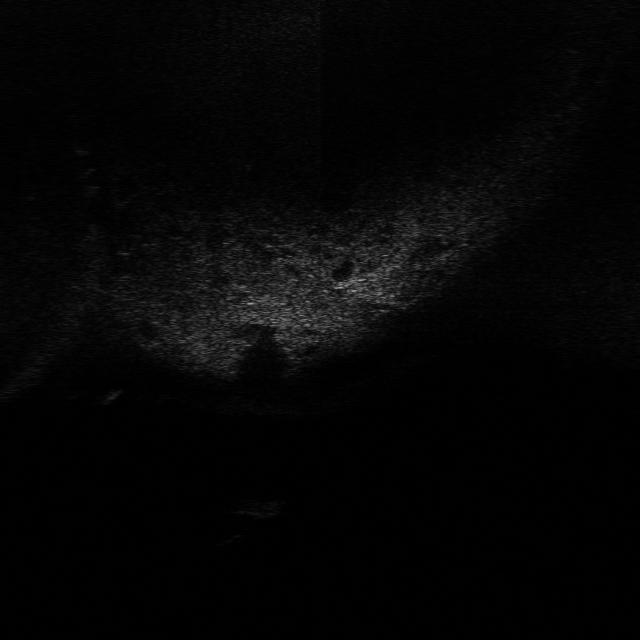cube: (224, 496, 284, 522)
